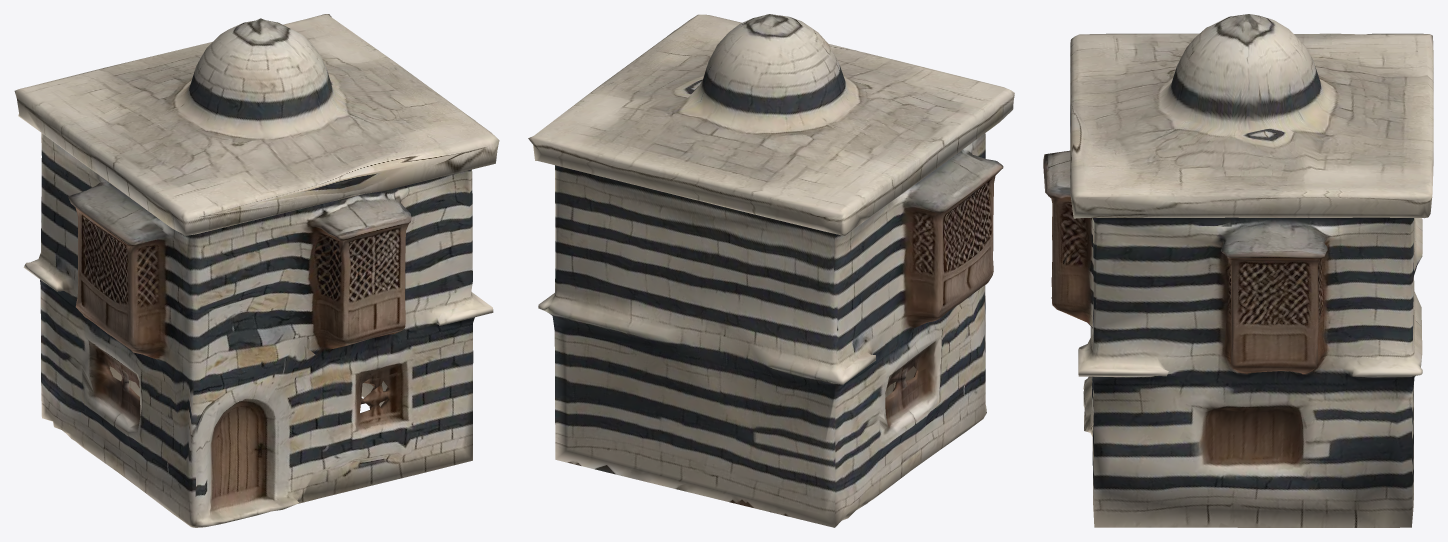
File: h_oldstone.glb
3 views of the same model, side by side, from view 1: azimuth 30°, elevation 25°; view 2: azimuth 150°, elevation 25°; view 3: azimuth 270°, elevation 25° (orthographic). The views are drawn at different scales.
Parts seen in each view (by area): view 1: model; view 2: model; view 3: model.
Boxes of the visible parts, x1,y1,x2,y2 form: model: (14,14,499,527); model: (528,14,1014,527); model: (1043,14,1433,527).
Bounding box in the file's own units: 1.68 × 1.86 × 1.48.
1 material, 1 textured.
